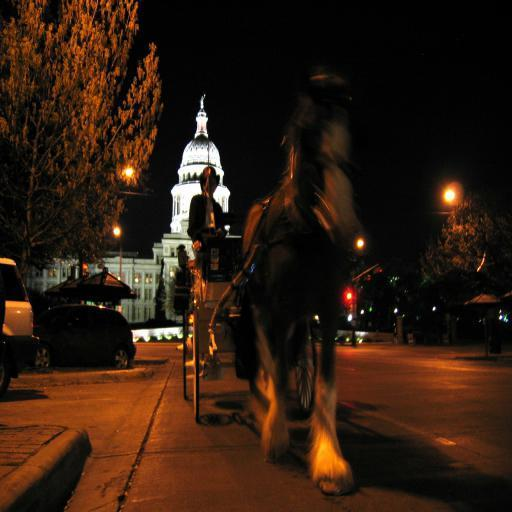horse: (230, 64, 366, 492)
